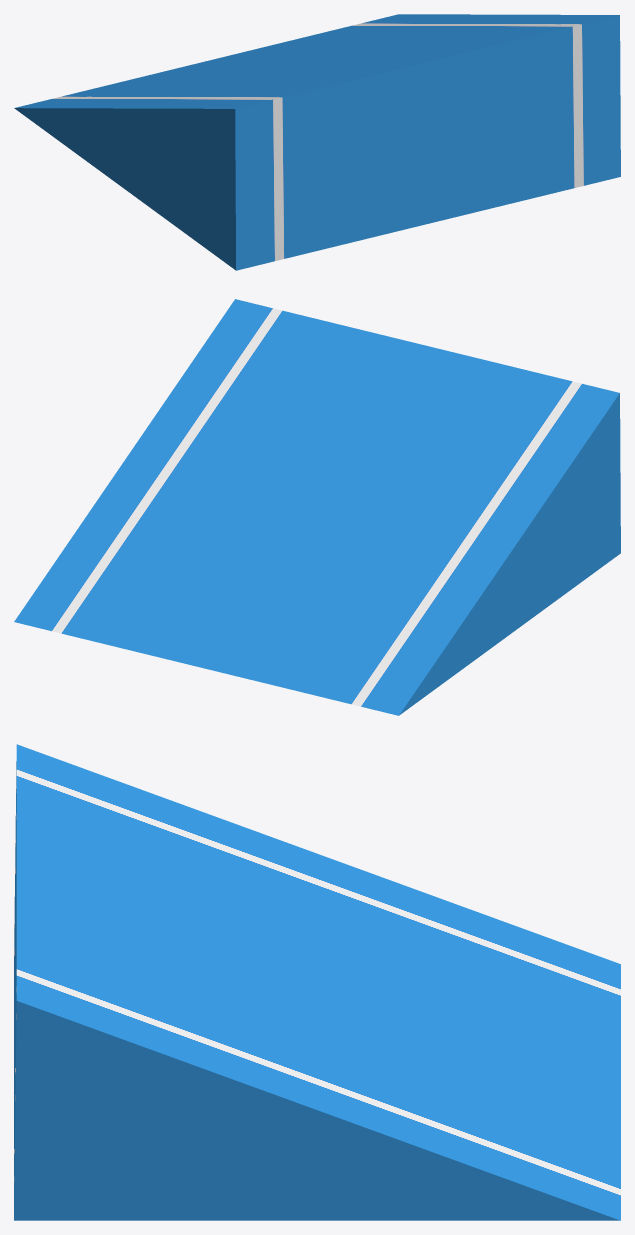
The model's file is ramp.glb.
The picture shows the model from 3 angles, top to bottom: view 1: azimuth 30°, elevation 25°; view 2: azimuth 150°, elevation 25°; view 3: azimuth 270°, elevation 25°; orthographic projection. The views are drawn at different scales.
Parts seen in each view (by area): view 1: Cube; view 2: Cube; view 3: Cube.
Boxes of the visible parts, left/top/right/bottom form: Cube: left=14, top=14, right=620, bottom=270; Cube: left=14, top=299, right=620, bottom=715; Cube: left=14, top=744, right=620, bottom=1220.
Bounding box in the file's own units: 5 × 2 × 5.
Materials: 1 (1 with a texture image).
